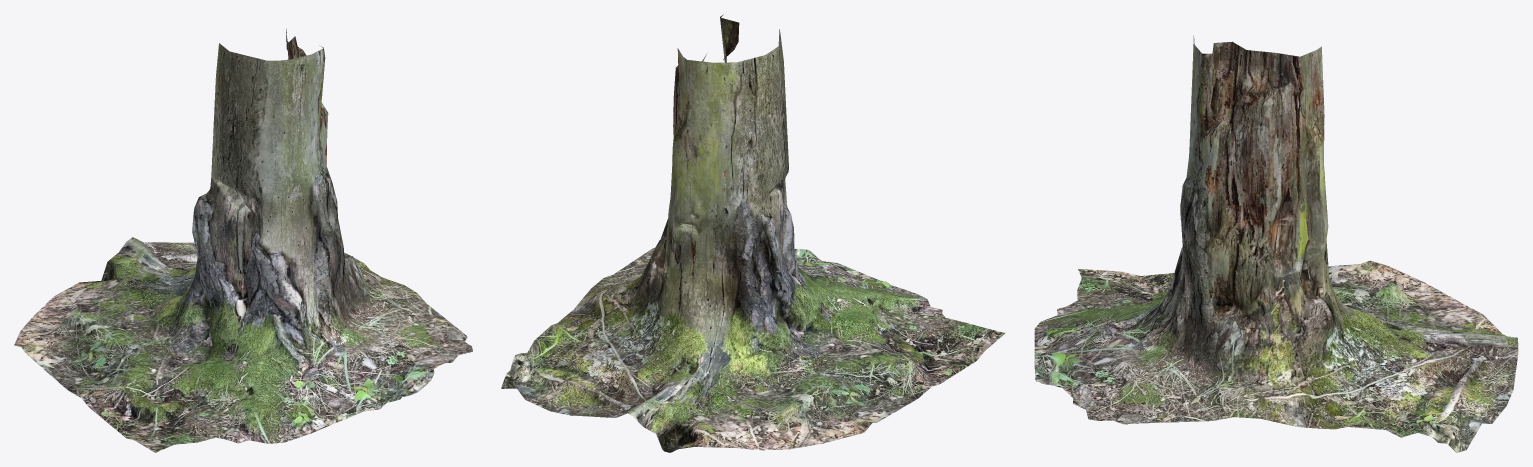
File: stump_scan.glb
The picture shows the model from 3 angles, left to right: view 1: azimuth 30°, elevation 25°; view 2: azimuth 150°, elevation 25°; view 3: azimuth 270°, elevation 25°; orthographic projection. The views are drawn at different scales.
Visible parts, largest first — view 1: Dead; view 2: Dead; view 3: Dead.
Boxes of the visible parts, <box> form: Dead: <box>14,29,472,452</box>; Dead: <box>501,14,1005,452</box>; Dead: <box>1034,35,1518,452</box>.
Size of the model in its own units: 1.74 by 1.6 by 2.01.
Materials: 1 (1 with a texture image).
